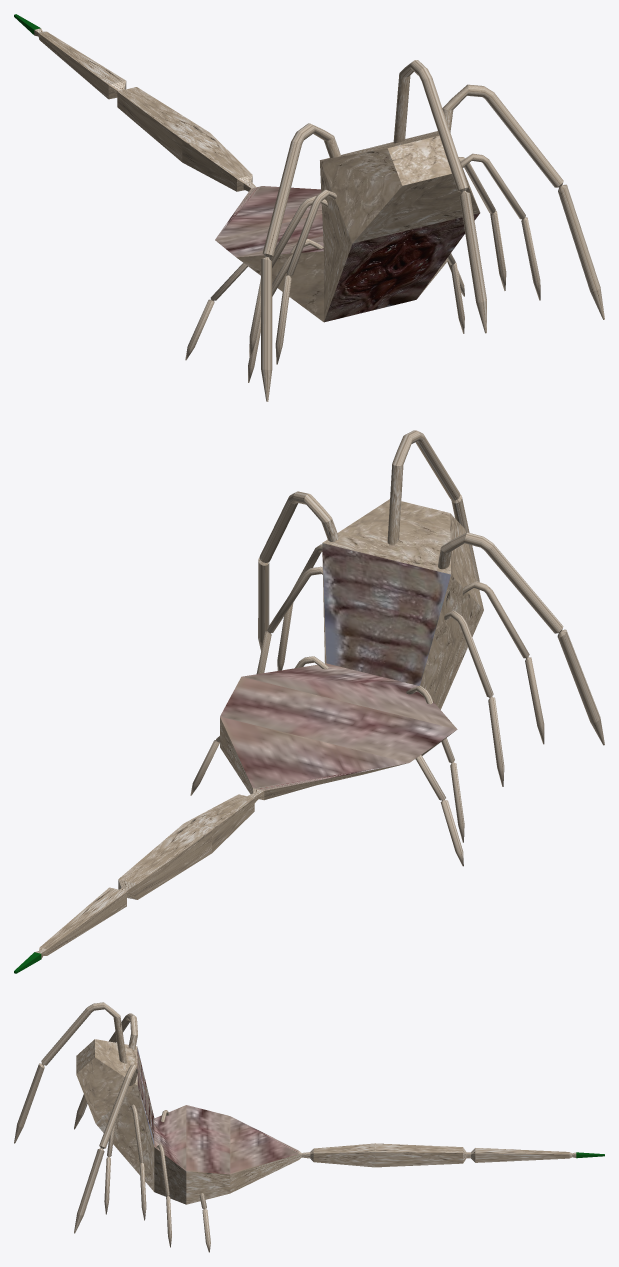
Rendered from facehugger.obj.
3 views of the same model, one above another, from view 1: azimuth 30°, elevation 25°; view 2: azimuth 150°, elevation 25°; view 3: azimuth 270°, elevation 25° (orthographic). The views are drawn at different scales.
Visible parts, largest first — view 1: Cube_Cube_Material, Cube_Cube_Material.002; view 2: Cube_Cube_Material, Cube_Cube_Material.002; view 3: Cube_Cube_Material, Cube_Cube_Material.002.
Part boxes in pixels (x1,y1,x2,y2): Cube_Cube_Material: (34,28,604,401); Cube_Cube_Material.002: (215,186,479,322); Cube_Cube_Material: (35,430,604,958); Cube_Cube_Material.002: (220,543,457,790); Cube_Cube_Material: (14,1002,576,1252); Cube_Cube_Material.002: (137,1047,298,1174).
Size of the model in its own units: 5.3 by 5.04 by 12.64.
